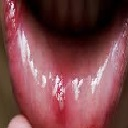Cold Sore: (52, 76, 70, 114)
